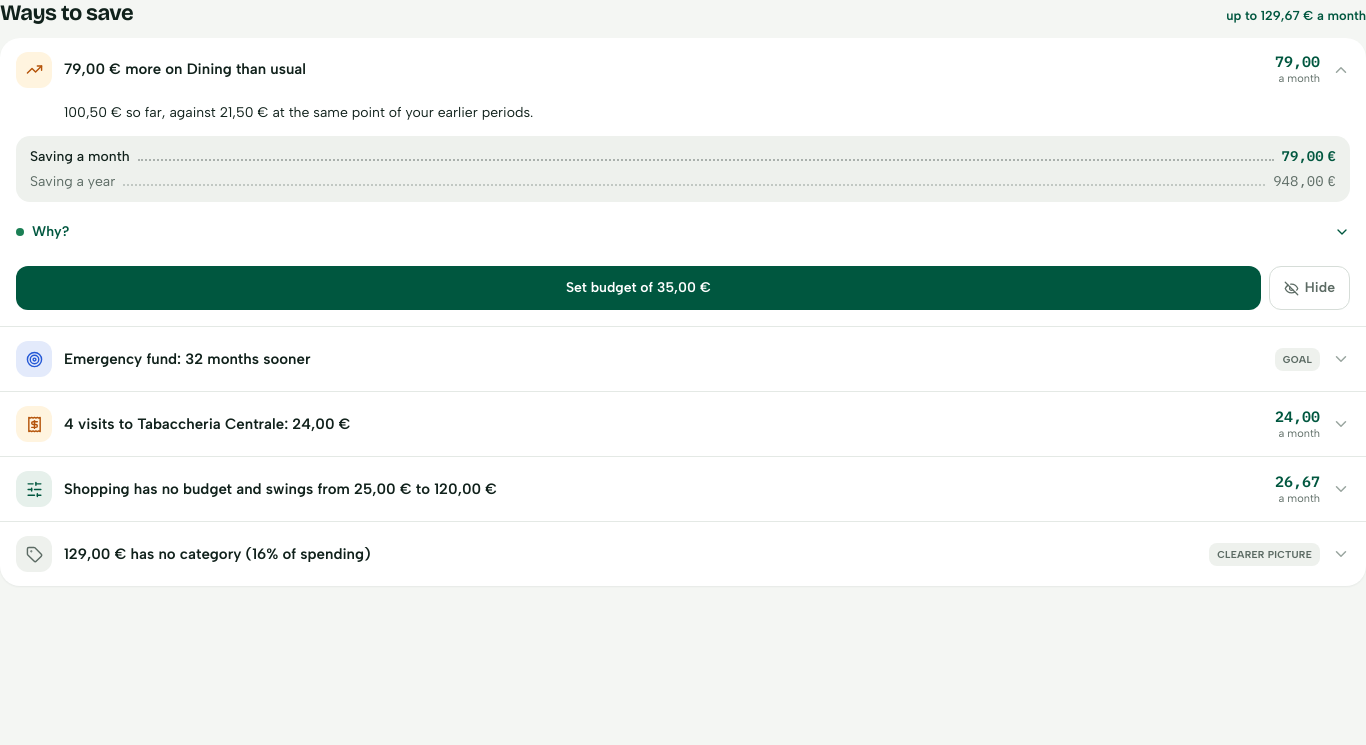
Ways to save › "Why?" opens the working, the period, the confidence and the receipts behind the card, and collapses again
Click the button with test id "opportunity-why". click: x=51, y=232
box: [16, 210, 1350, 254]
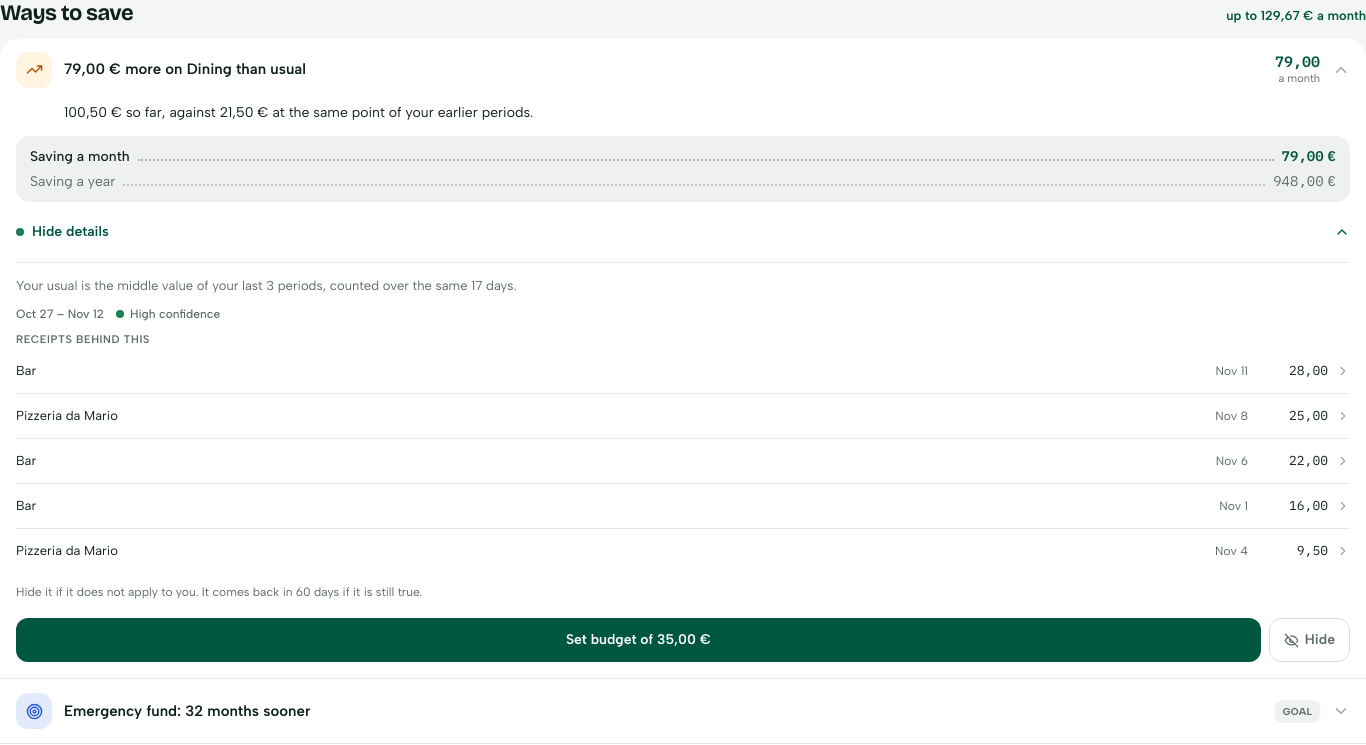
Check: the button with test id "opportunity-why" is expanded
Check: the element with test id "opportunity-details" shows "middle value of your last 3 periods", box [16, 278, 516, 293]
Check: the element with test id "opportunity-details" shows "High confidence", box [130, 307, 220, 321]
Click the button with test id "opportunity-why". click: x=70, y=232
box: [16, 210, 1350, 254]
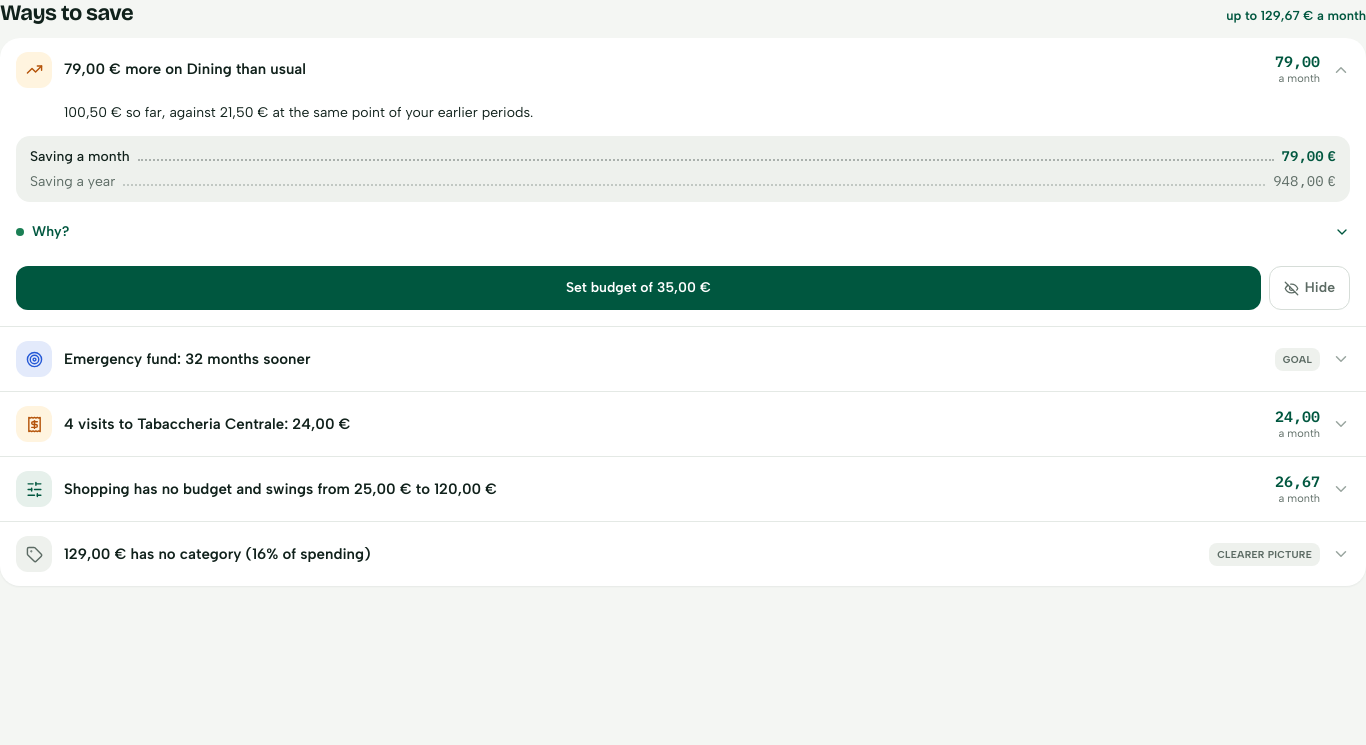
Check: the element with test id "opportunity-details" is gone
